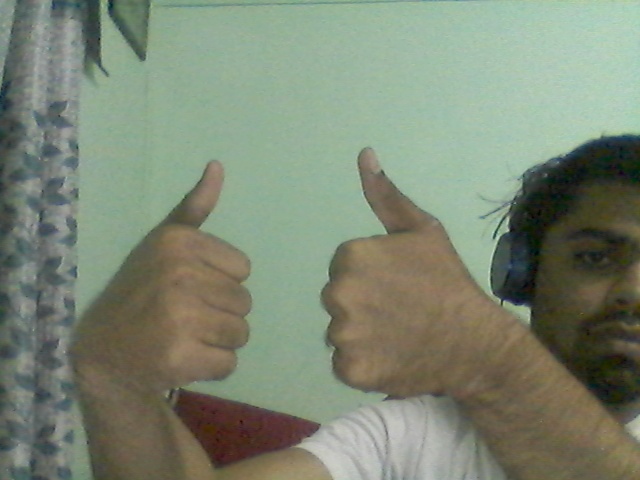Thank You: (29, 131, 538, 454)
